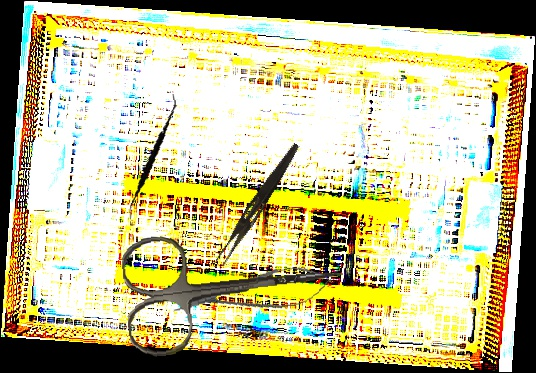Dressing Forceps: (214, 139, 302, 269)
Iris Scissors: (119, 215, 350, 360)
Micro Scissor: (168, 259, 336, 326)
Spatula Surgical: (108, 94, 195, 219)
